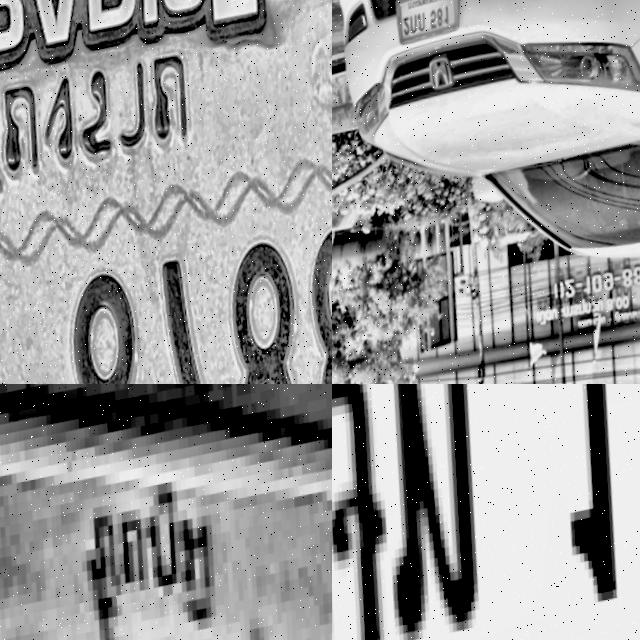license-plate: (0, 0, 332, 384), (0, 384, 332, 640), (332, 384, 640, 640), (391, 0, 468, 51)
